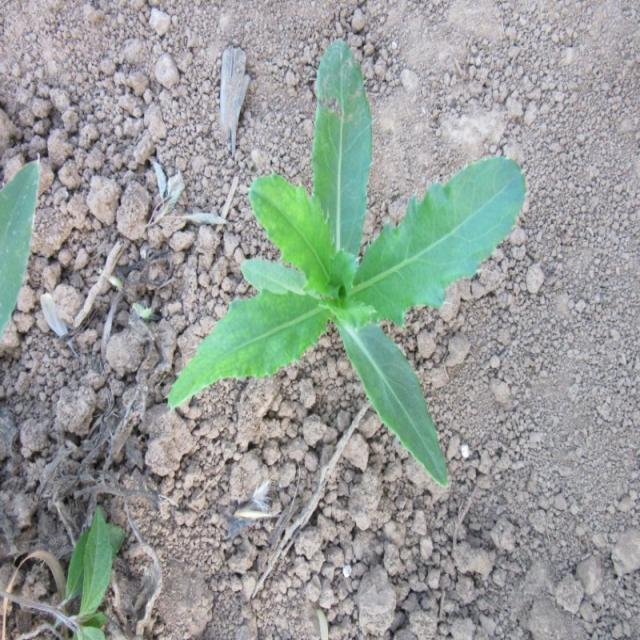cs: (166, 35, 529, 489)
